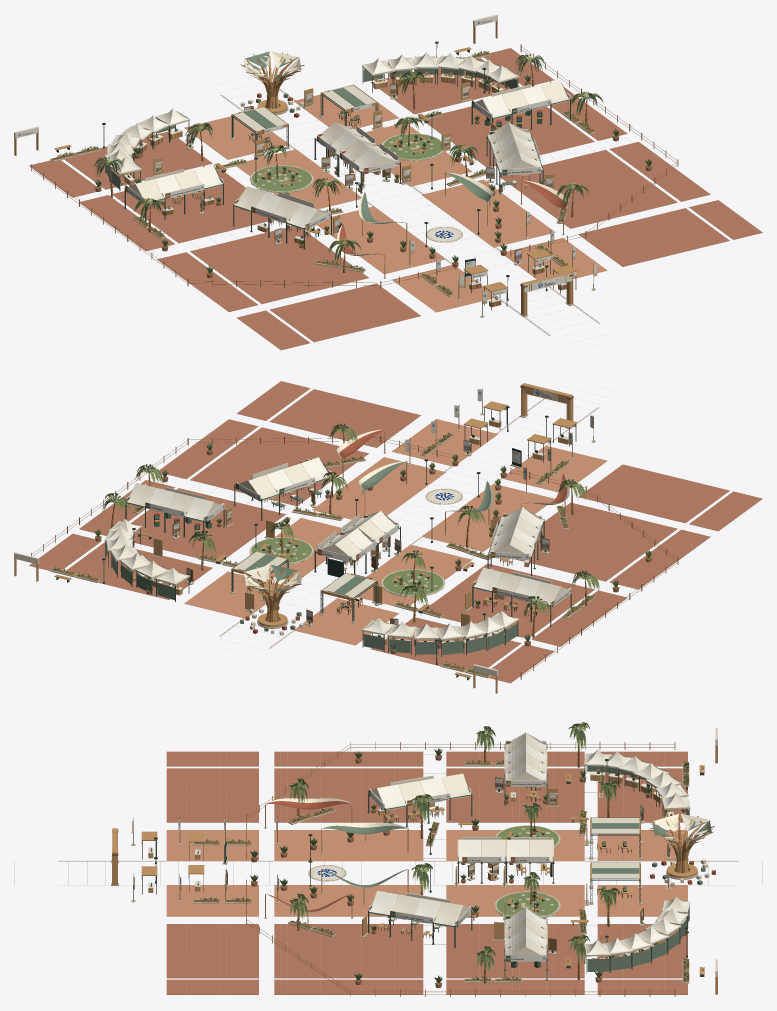
File: village.glb
3 views of the same model, one above another, from view 1: azimuth 30°, elevation 25°; view 2: azimuth 150°, elevation 25°; view 3: azimuth 270°, elevation 25° (orthographic). The views are drawn at different scales.
Parts seen in each view (by area): view 1: Parvis · calepinage, Halle · La Place du citoyen, Portique et montants, Agave, Voile de l’allée · sauge, Accueil · 1, Jardin circulaire -1, Banque d’accueil, Massif bas · graminées et aloès, Palmier 2, Voile de l’allée · terre; view 2: Parvis · calepinage, Halle · La Place du citoyen, Portique et montants, Agave, Voile de l’allée · sauge, Accueil · 1, Jardin circulaire -1, Banque d’accueil, Massif bas · graminées et aloès, Palmier 2, Voile de l’allée · terre; view 3: Parvis · calepinage, Halle · La Place du citoyen, Portique et montants, Agave, Voile de l’allée · sauge, Accueil · 1, Jardin circulaire -1, Banque d’accueil, Massif bas · graminées et aloès, Palmier 2, Voile de l’allée · terre, Lampadaire.
Boxes of the visible parts, x1=… form: Parvis · calepinage: x1=29, y1=48, x2=762, y2=350; Halle · La Place du citoyen: x1=104, y1=52, x2=570, y2=249; Portique et montants: x1=14, y1=14, x2=677, y2=317; Agave: x1=51, y1=51, x2=651, y2=295; Voile de l’allée · sauge: x1=106, y1=51, x2=596, y2=303; Accueil · 1: x1=56, y1=49, x2=576, y2=310; Jardin circulaire -1: x1=249, y1=133, x2=443, y2=193; Banque d’accueil: x1=31, y1=44, x2=678, y2=306; Massif bas · graminées et aloès: x1=50, y1=51, x2=595, y2=296; Palmier 2: x1=55, y1=50, x2=593, y2=293; Voile de l’allée · terre: x1=250, y1=93, x2=567, y2=255; Parvis · calepinage: x1=29, y1=381, x2=762, y2=683; Halle · La Place du citoyen: x1=104, y1=457, x2=560, y2=640; Portique et montants: x1=14, y1=383, x2=677, y2=693; Agave: x1=51, y1=423, x2=651, y2=676; Voile de l’allée · sauge: x1=106, y1=429, x2=569, y2=655; Accueil · 1: x1=56, y1=408, x2=576, y2=680; Jardin circulaire -1: x1=249, y1=537, x2=445, y2=597; Banque d’accueil: x1=31, y1=391, x2=678, y2=679; Massif bas · graminées et aloès: x1=50, y1=434, x2=595, y2=678; Palmier 2: x1=52, y1=425, x2=594, y2=673; Voile de l’allée · terre: x1=154, y1=429, x2=567, y2=633; Parvis · calepinage: x1=14, y1=751, x2=762, y2=994; Halle · La Place du citoyen: x1=367, y1=732, x2=713, y2=980; Portique et montants: x1=111, y1=727, x2=717, y2=994; Agave: x1=193, y1=722, x2=689, y2=987; Voile de l’allée · sauge: x1=133, y1=733, x2=711, y2=971; Accueil · 1: x1=142, y1=744, x2=704, y2=979; Jardin circulaire -1: x1=494, y1=825, x2=560, y2=917; Banque d’accueil: x1=148, y1=742, x2=714, y2=996; Massif bas · graminées et aloès: x1=192, y1=760, x2=689, y2=983; Palmier 2: x1=194, y1=724, x2=688, y2=980; Voile de l’allée · terre: x1=266, y1=801, x2=715, y2=911; Lampadaire: x1=154, y1=759, x2=688, y2=958.
Size of the model in its own units: 73.07 by 6.34 by 93.51.
58 materials, 24 textured.
